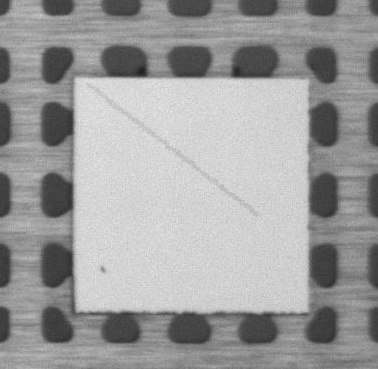DIE_CRACK: (89, 85, 258, 215)
